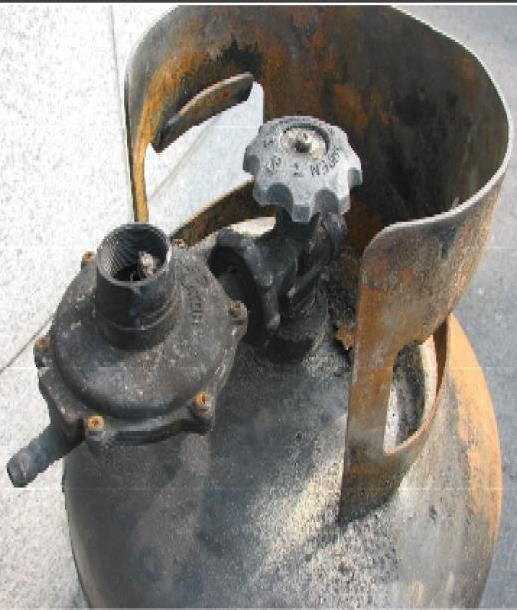cylinder: (1, 0, 517, 610)
